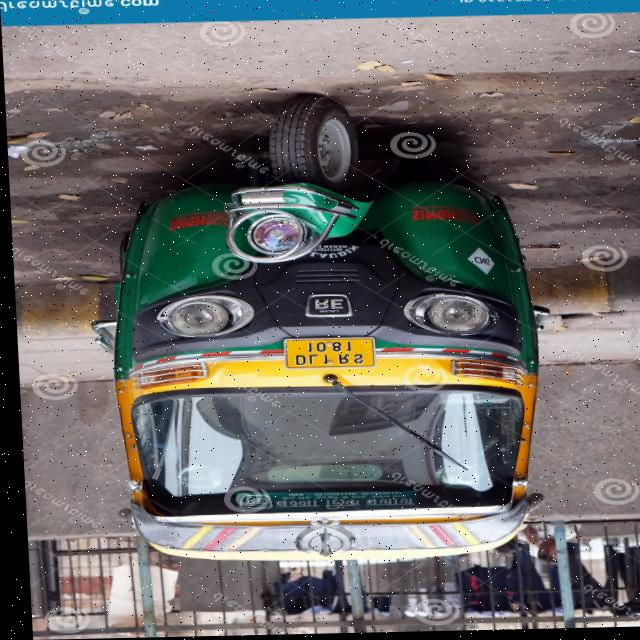plate: (274, 334, 380, 376)
